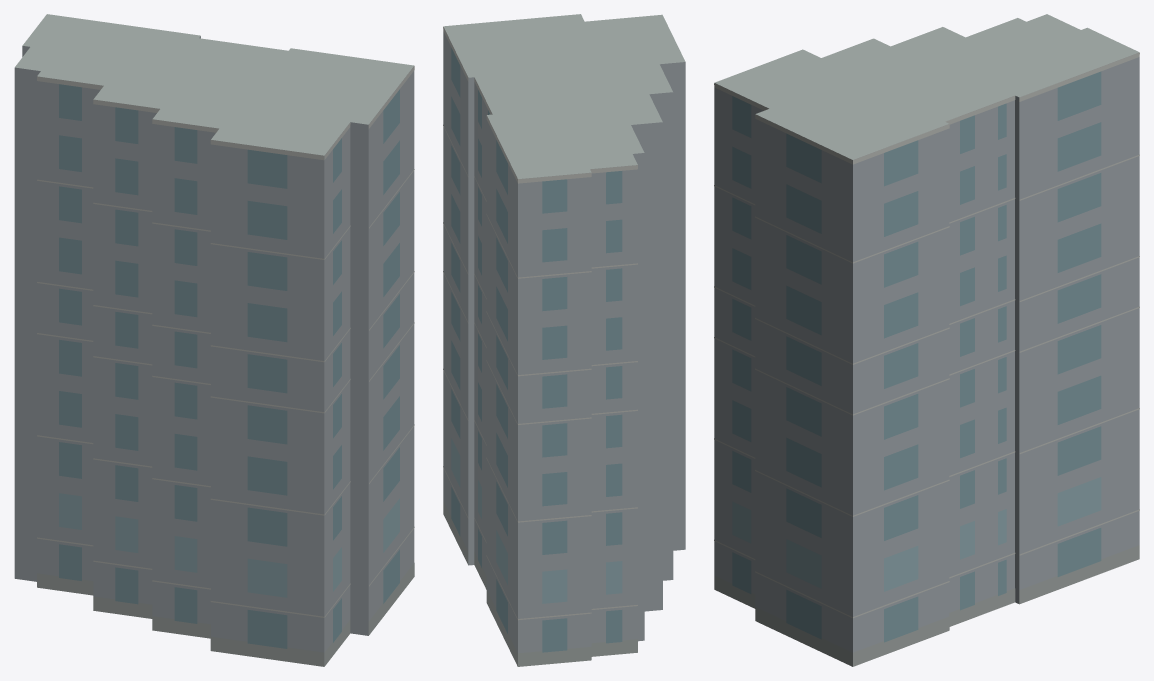
Rendered from survey-upis-32664535.glb.
The picture shows the model from 3 angles, left to right: view 1: azimuth 30°, elevation 25°; view 2: azimuth 150°, elevation 25°; view 3: azimuth 270°, elevation 25°; orthographic projection. The views are drawn at different scales.
Parts seen in each view (by area): view 1: survey-upis-32664535.tmp; view 2: survey-upis-32664535.tmp; view 3: survey-upis-32664535.tmp.
Boxes of the visible parts, x1=… form: survey-upis-32664535.tmp: x1=14, y1=14, x2=414, y2=666; survey-upis-32664535.tmp: x1=443, y1=14, x2=685, y2=666; survey-upis-32664535.tmp: x1=714, y1=14, x2=1139, y2=666.
Bounding box in the file's own units: 16.52 × 26.7 × 20.33.
